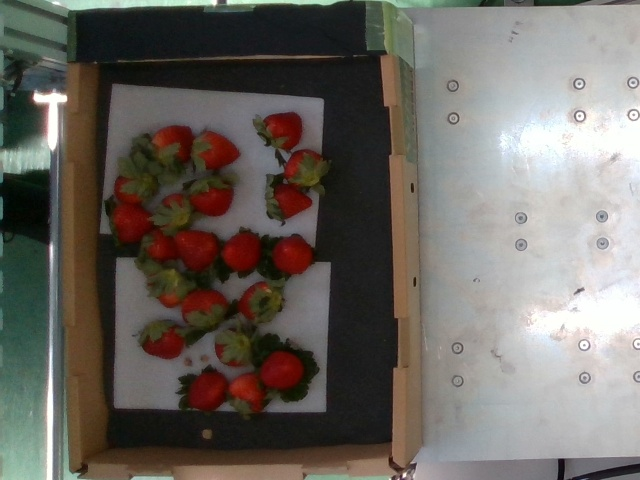strawberry: (193, 131, 241, 171), (150, 126, 191, 171), (175, 230, 219, 271), (215, 322, 254, 368), (240, 284, 284, 322), (183, 289, 228, 325), (141, 320, 182, 359), (261, 352, 303, 390), (193, 178, 233, 217), (263, 112, 305, 149), (190, 373, 230, 411), (282, 149, 324, 185), (112, 204, 152, 241), (223, 232, 259, 273), (269, 187, 312, 220), (274, 238, 311, 275), (154, 269, 191, 306), (231, 374, 265, 411), (116, 175, 149, 208), (160, 193, 191, 228), (148, 231, 178, 267)
